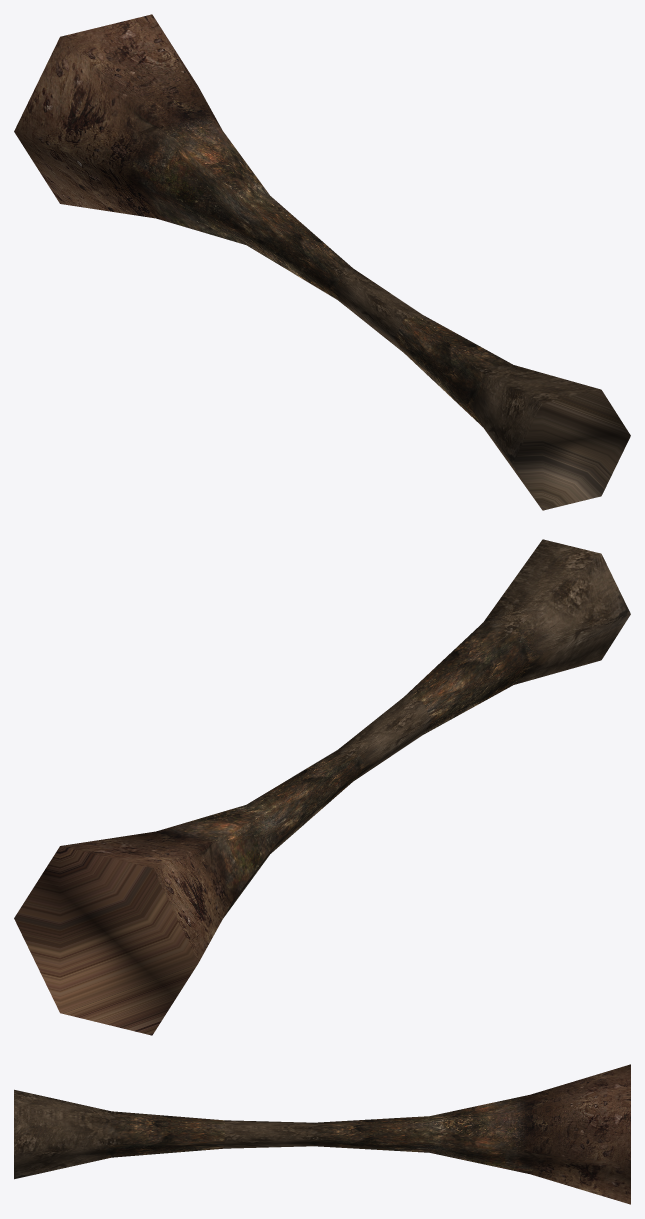
The model's file is rock-pillar_10.obj.
3 views of the same model, one above another, from view 1: azimuth 30°, elevation 25°; view 2: azimuth 150°, elevation 25°; view 3: azimuth 270°, elevation 25° (orthographic). The views are drawn at different scales.
Parts seen in each view (by area): view 1: (null); view 2: (null); view 3: (null).
Part boxes in pixels (x1,y1,x2,y2): (null): [14, 14, 630, 510]; (null): [14, 539, 630, 1035]; (null): [14, 1064, 630, 1204].
Size of the model in its own units: 3.35 by 2.9 by 14.66.
